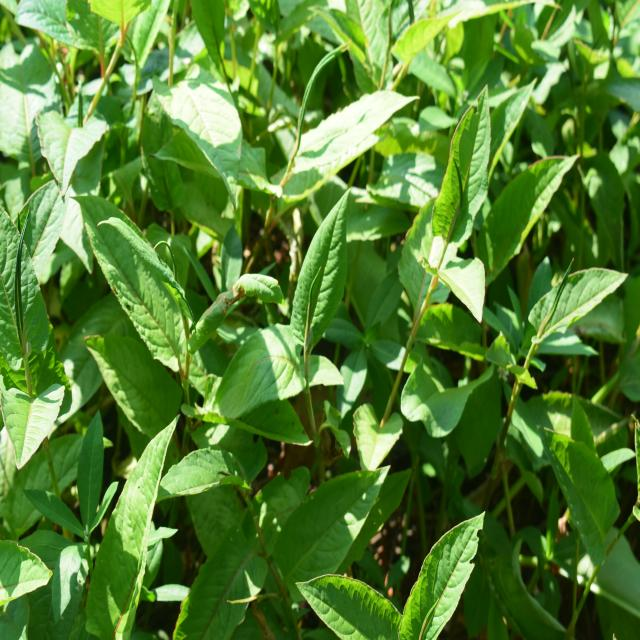Chinese_knotweed: (222, 204, 380, 441), (401, 103, 520, 351), (0, 183, 87, 470)
